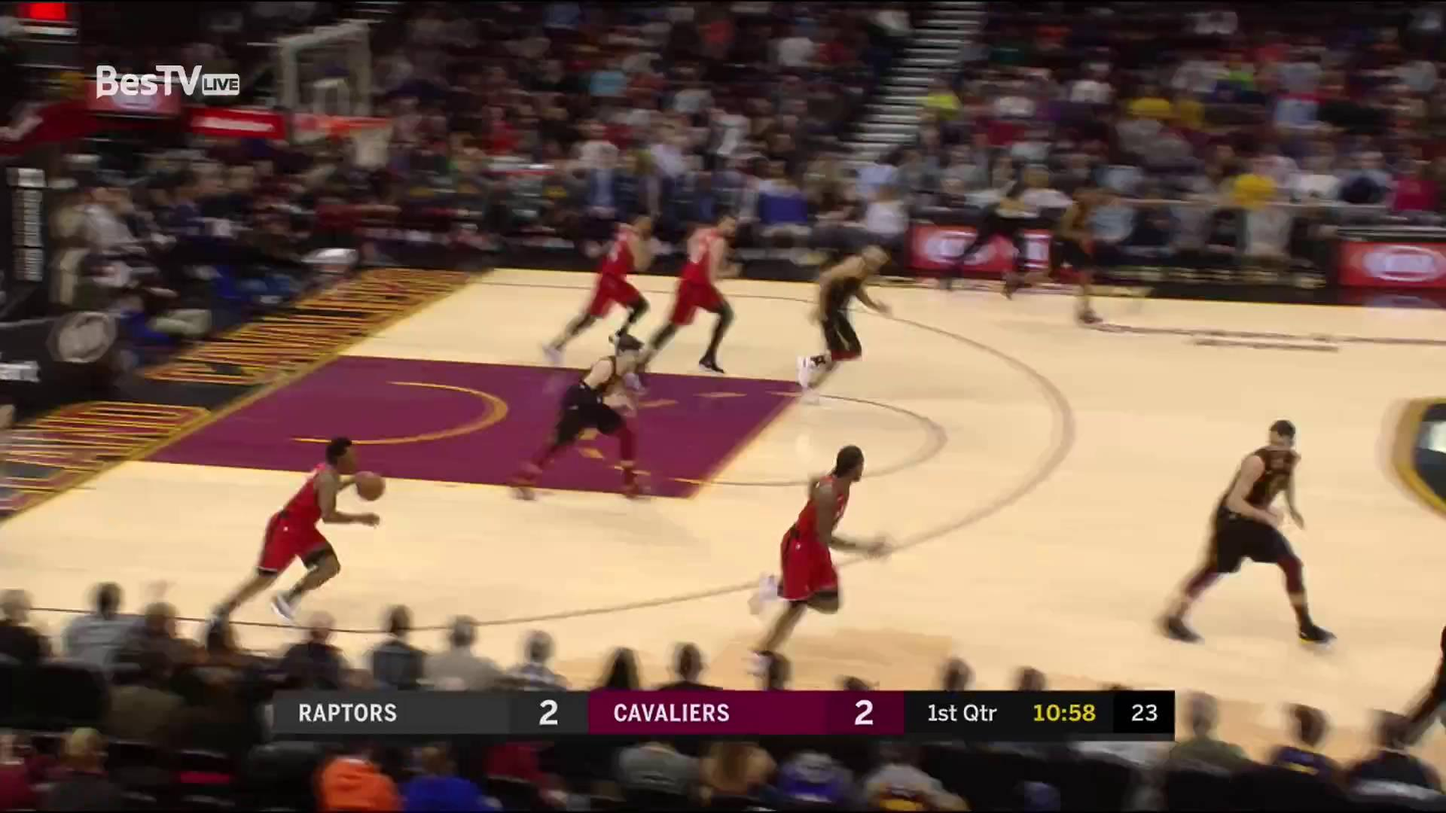basketball: (358, 470, 388, 500)
